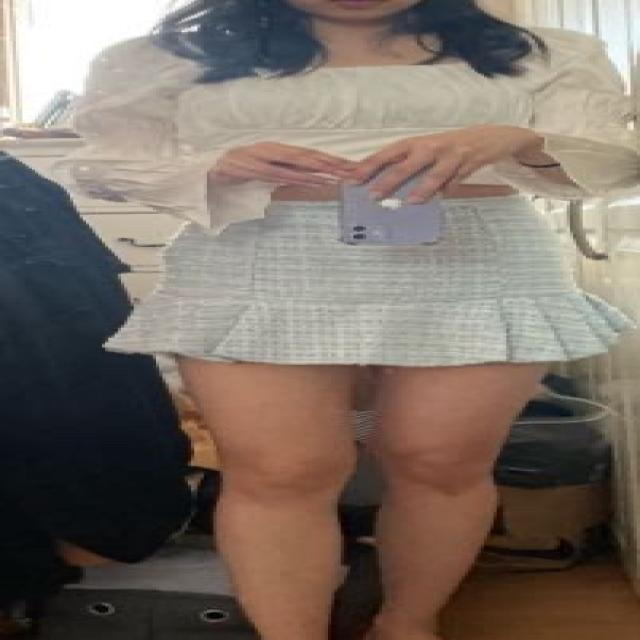shirt: (63, 26, 640, 237)
skirt: (93, 194, 640, 368)
